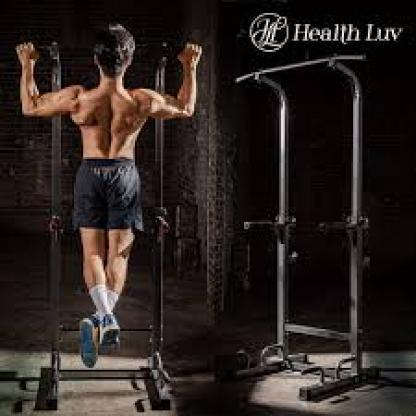chinning dipping: (233, 55, 382, 402)
